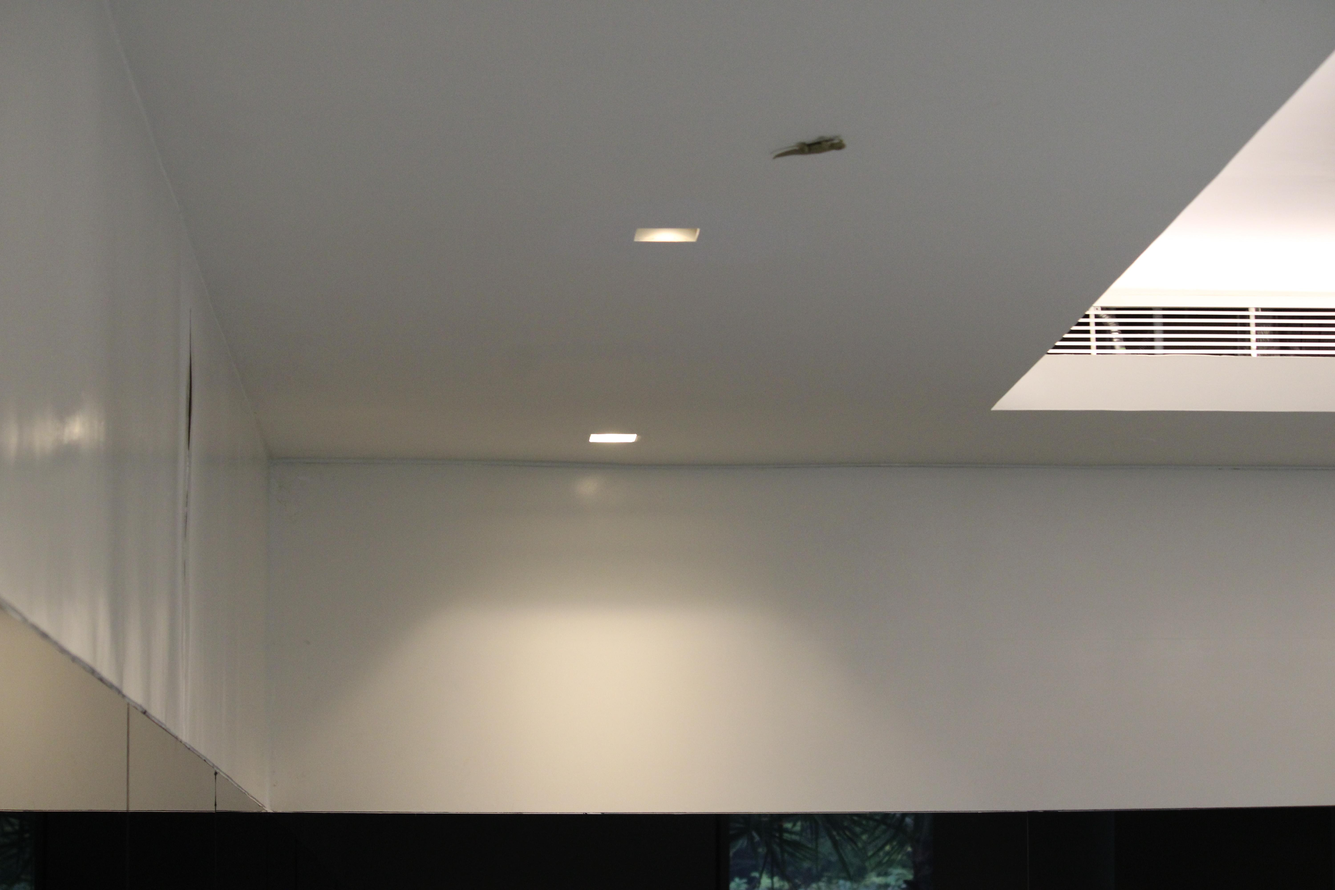lizard: (768, 125, 854, 175)
